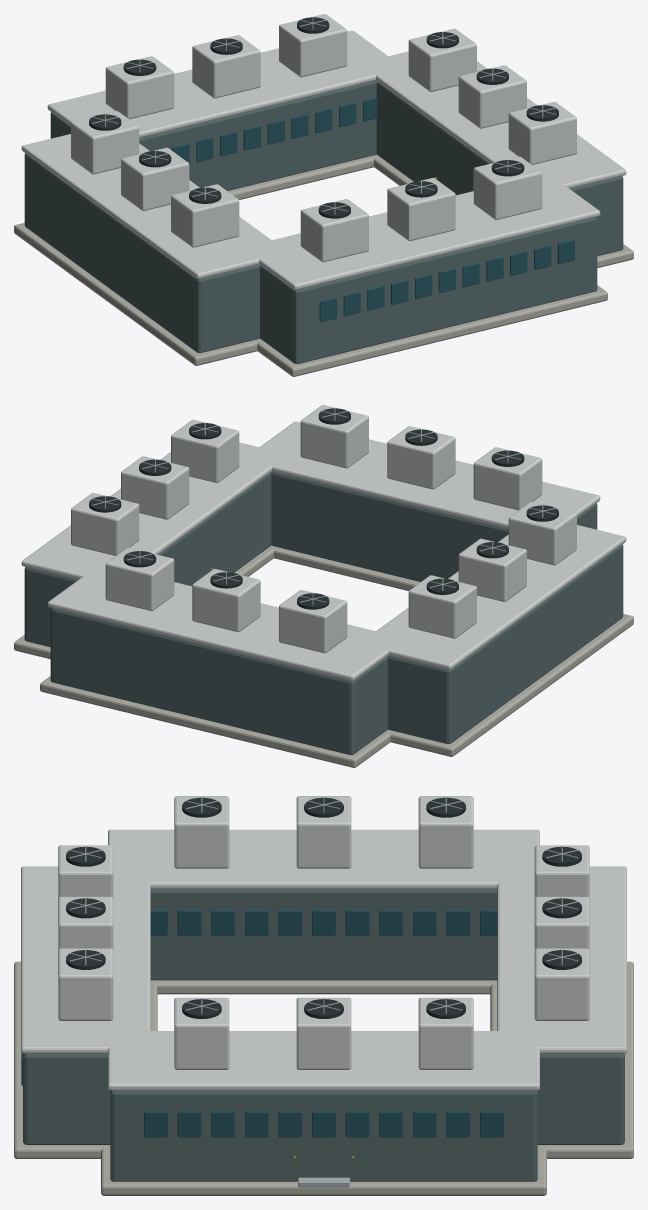
The model's file is SM_Core.fbx.
3 renders of one model, top to bottom at view 1: azimuth 30°, elevation 25°; view 2: azimuth 150°, elevation 25°; view 3: azimuth 270°, elevation 25°, orthographic. The views are drawn at different scales.
Parts seen in each view (by area): view 1: SM_Core; view 2: SM_Core; view 3: SM_Core.
Boxes of the visible parts, x1,y1,x2,y2 form: SM_Core: (14, 14, 633, 376); SM_Core: (14, 405, 633, 767); SM_Core: (14, 796, 633, 1195).
Bounding box in the file's own units: 2035 × 2030 × 580.
